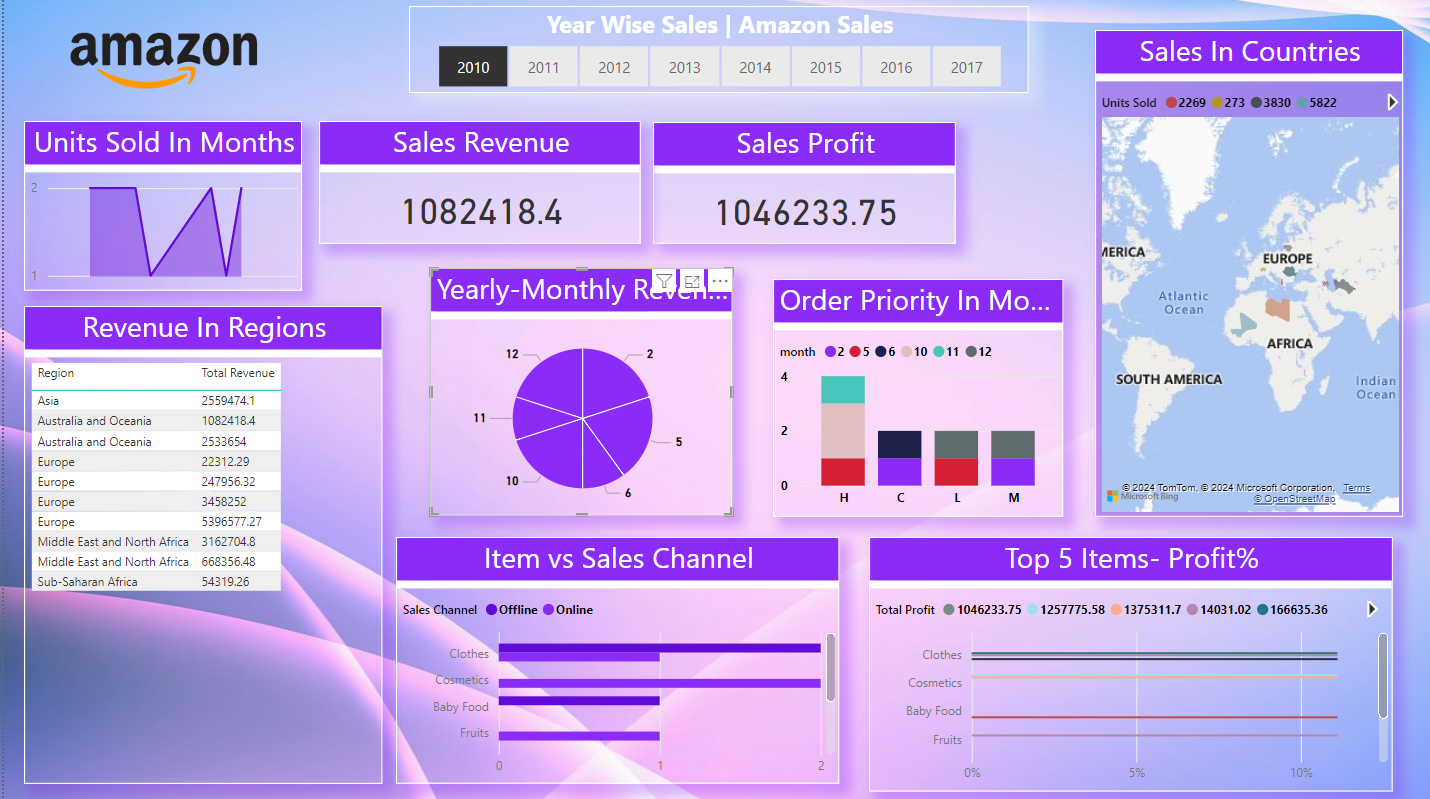

The dashboard page shown, as its layout file describes it:
{"tool":"powerbi","page":{"name":"Report 1","canvas":[1280,720],"ordinal":0},"visuals":[{"type":"slicer","title":"Year Wise Sales | Amazon Sales","fields":{"Values":["Amazon Sales data.year"]},"box":[363.1,9.8,555,78.2],"z":0},{"type":"image","box":[54.6,9.9,177.3,98.5],"z":1000},{"type":"card","title":"Sales Profit","fields":{"Values":["Min(Amazon Sales data.Total Profit)"]},"box":[581.2,113.7,271.3,109.3],"z":2000},{"type":"card","title":"Sales Revenue","fields":{"Values":["Min(Amazon Sales data.Total Revenue)"]},"box":[282.4,112.5,288.5,110],"z":3000},{"type":"card","title":"Total Revenue","fields":{"Values":["Min(Amazon Sales data.Total Revenue)"]},"box":[1665,98.8,330,122.5],"z":4000},{"type":"areaChart","title":"Units Sold In Months","fields":{"Category":["Amazon Sales data.month"],"Y":["CountNonNull(Amazon Sales data.Units Sold)"]},"box":[18.3,112.5,249.4,151.6],"z":5000},{"type":"pieChart","title":"Yearly-Monthly Revenue","fields":{"Category":["Amazon Sales data.year"],"Y":["CountNonNull(Amazon Sales data.Units Sold)"],"Series":["Amazon Sales data.month"]},"box":[381.4,244.5,271.4,222.5],"z":7000},{"type":"tableEx","title":"Revenue In Regions","fields":{"Values":["Amazon Sales data.Region","Amazon Sales data.Total Revenue"]},"box":[18.3,278.7,321.5,427.8],"z":8000},{"type":"columnChart","title":"Order Priority In Months","fields":{"Category":["Amazon Sales data.Order Priority"],"Y":["CountNonNull(Amazon Sales data.month)"],"Series":["Amazon Sales data.month"]},"box":[688.2,254.3,260.4,212.7],"z":9000},{"type":"clusteredBarChart","title":"Top 5 Items- Profit% ","fields":{"Category":["Amazon Sales data.Item Type"],"Y":["CountNonNull(Amazon Sales data.Total Profit)"],"Series":["Amazon Sales data.Total Profit"]},"box":[774.6,485.1,468.7,228.4],"z":10000},{"type":"clusteredBarChart","title":"Item vs Sales Channel","fields":{"Category":["Amazon Sales data.Item Type"],"Series":["Amazon Sales data.Sales Channel"],"Y":["CountNonNull(Amazon Sales data.Sales Channel)"]},"box":[350.8,485.3,397.3,221.3],"z":11000},{"type":"filledMap","title":"Sales In Countries","fields":{"Category":["Amazon Sales data.Country"],"Series":["Amazon Sales data.Units Sold"]},"box":[977.1,31.4,275.7,435.7],"z":12000}]}

Visuals, with their boxes in screenshot pixels (x1, y1, x2, y2), scaled from the page's 1280x720 canvas onto the 1430x799 screenshot:
"Year Wise Sales | Amazon Sales" slicer: (x1=406, y1=11, x2=1026, y2=98)
image: (x1=61, y1=11, x2=259, y2=120)
"Sales Profit" card: (x1=649, y1=126, x2=952, y2=247)
"Sales Revenue" card: (x1=315, y1=125, x2=638, y2=247)
"Units Sold In Months" areaChart: (x1=20, y1=125, x2=299, y2=293)
"Yearly-Monthly Revenue" pieChart: (x1=426, y1=271, x2=729, y2=518)
"Revenue In Regions" tableEx: (x1=20, y1=309, x2=380, y2=784)
"Order Priority In Months" columnChart: (x1=769, y1=282, x2=1060, y2=518)
"Top 5 Items- Profit% " clusteredBarChart: (x1=865, y1=538, x2=1389, y2=792)
"Item vs Sales Channel" clusteredBarChart: (x1=392, y1=539, x2=836, y2=784)
"Sales In Countries" filledMap: (x1=1092, y1=35, x2=1400, y2=518)
